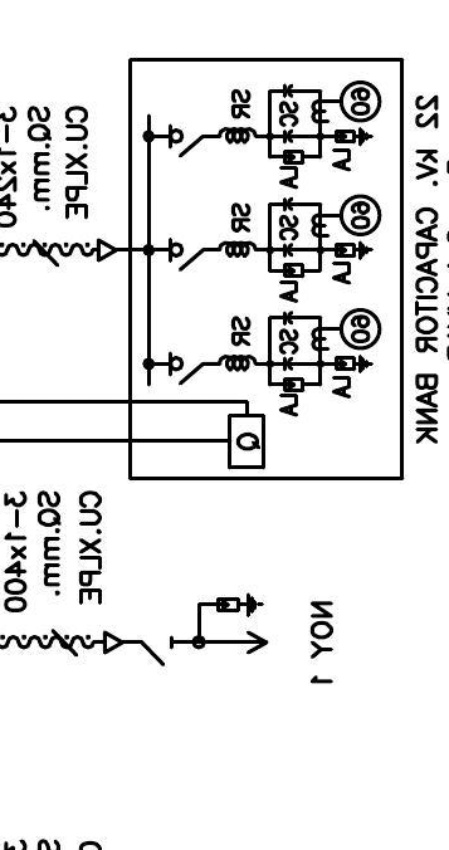22_cap_bank: (127, 57, 405, 481)
22_ds_la_out: (141, 592, 269, 667)
Q: (227, 413, 266, 470)
terminator_single: (96, 237, 118, 264), (102, 630, 124, 655)
